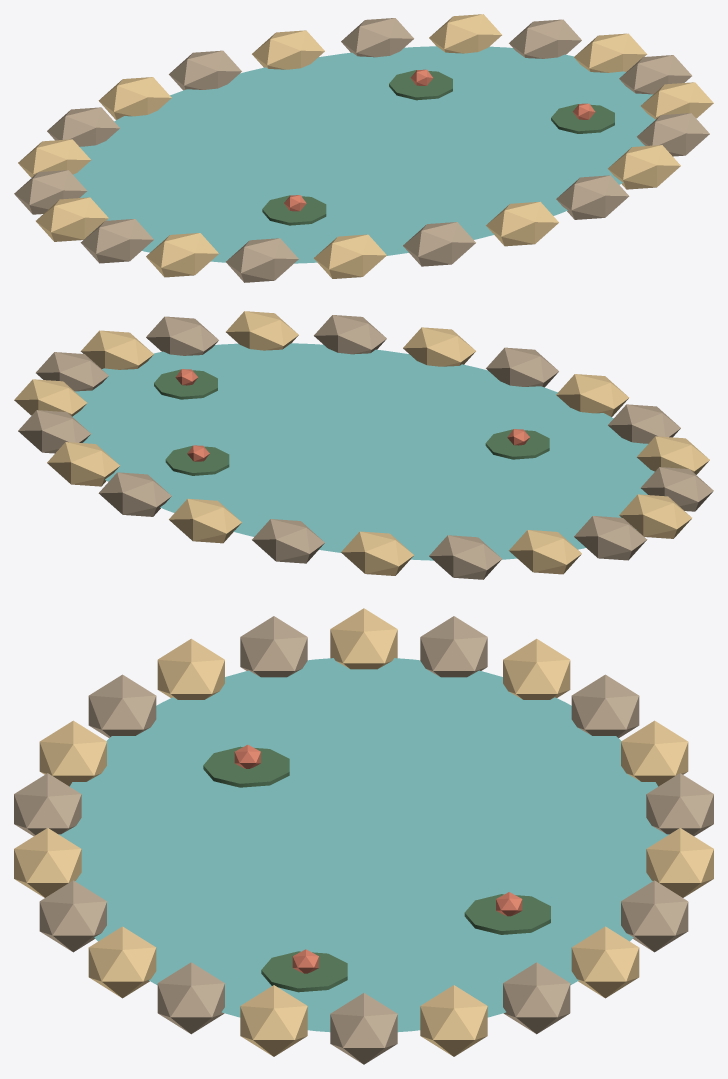
File: pond.glb
3 renders of one model, top to bottom at view 1: azimuth 30°, elevation 25°; view 2: azimuth 150°, elevation 25°; view 3: azimuth 270°, elevation 25°, orthographic. The views are drawn at different scales.
Visible parts, largest first — view 1: surface_pond_water, surface_#e7c994, surface_#bca991, surface_#577d5b, surface_#df8269; view 2: surface_pond_water, surface_#e7c994, surface_#bca991, surface_#577d5b, surface_#df8269; view 3: surface_pond_water, surface_#e7c994, surface_#bca991, surface_#577d5b, surface_#df8269.
Part boxes in pixels (x1,y1,x2,y2): surface_pond_water: (73,46,655,263); surface_#e7c994: (18,14,713,278); surface_#bca991: (14,18,709,282); surface_#577d5b: (262,70,614,225); surface_#df8269: (284,69,595,211); surface_pond_water: (72,343,654,560); surface_#e7c994: (14,311,709,575); surface_#bca991: (18,315,713,579); surface_#577d5b: (154,369,549,475); surface_#df8269: (175,369,529,461); surface_pond_water: (59,658,668,1032); surface_#e7c994: (14,608,713,1056); surface_#bca991: (14,616,713,1064); surface_#577d5b: (203,746,550,992); surface_#df8269: (234,744,522,973).
Size of the model in its own units: 5.17 by 0.2765 by 3.62.
